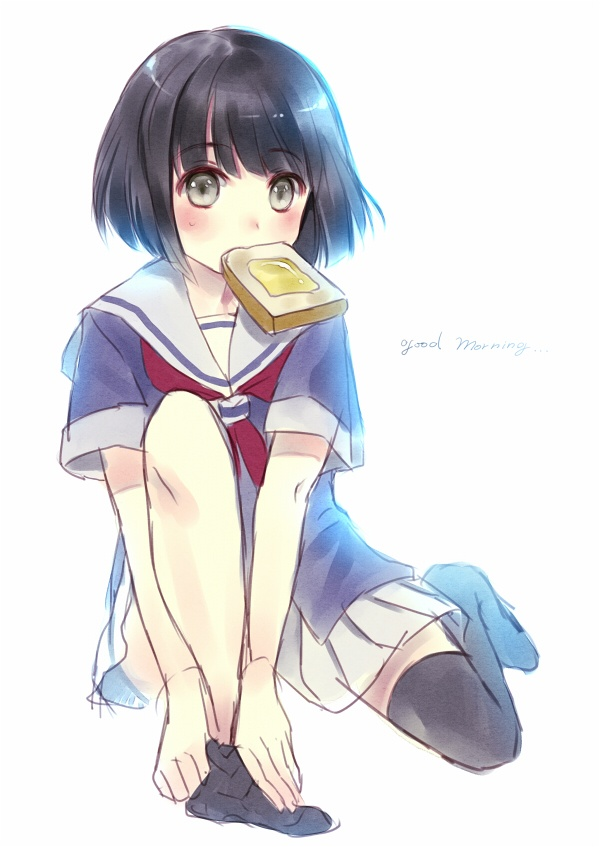纸片人正脸: (103, 19, 366, 276)
